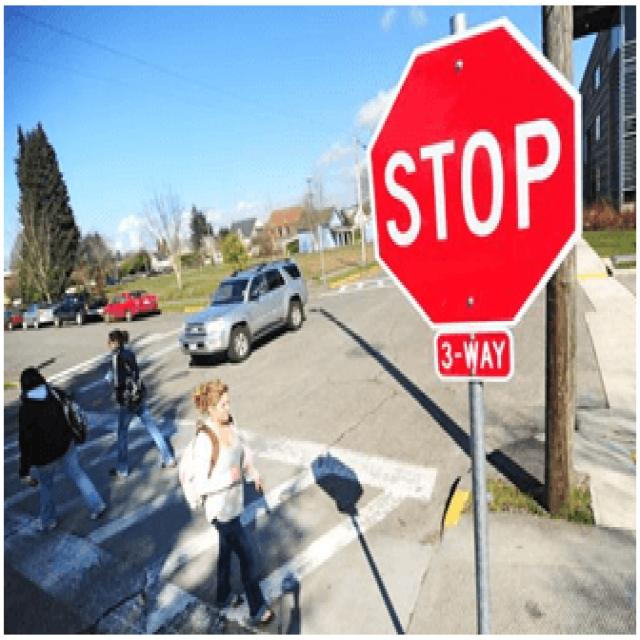stop-sign: (362, 53, 640, 331)
